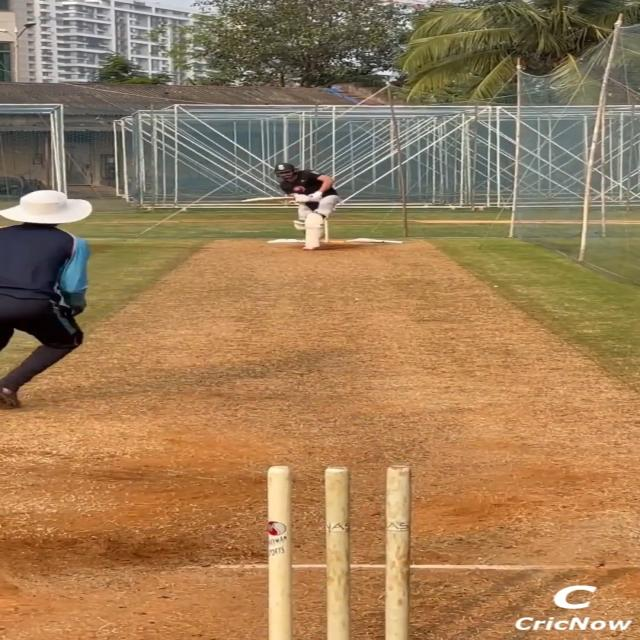ball: (293, 186, 306, 193)
stump: (264, 463, 414, 640)
